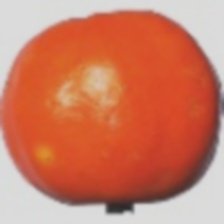tangerine: (31, 34, 213, 224)
